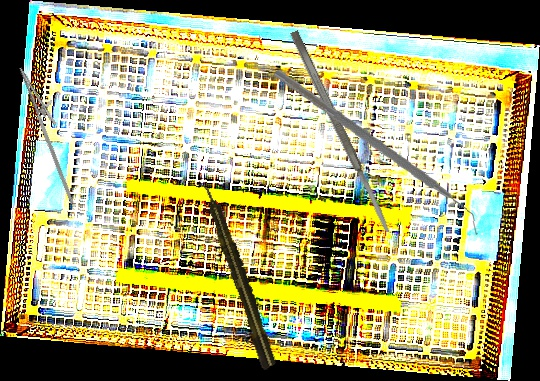Chopper: (263, 69, 489, 237)
Handpiece: (197, 178, 279, 372)
Needle Holder: (3, 61, 99, 205)
Spatula Surgical: (288, 29, 393, 235)
